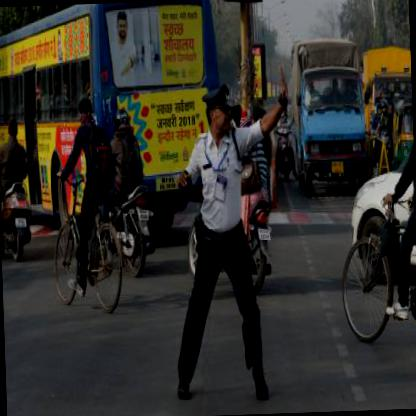bus: (0, 0, 228, 249)
car: (350, 117, 415, 289)
motorcycle: (338, 92, 415, 361), (48, 100, 122, 314), (108, 106, 157, 274), (0, 120, 35, 265)
truck: (288, 39, 367, 198)
